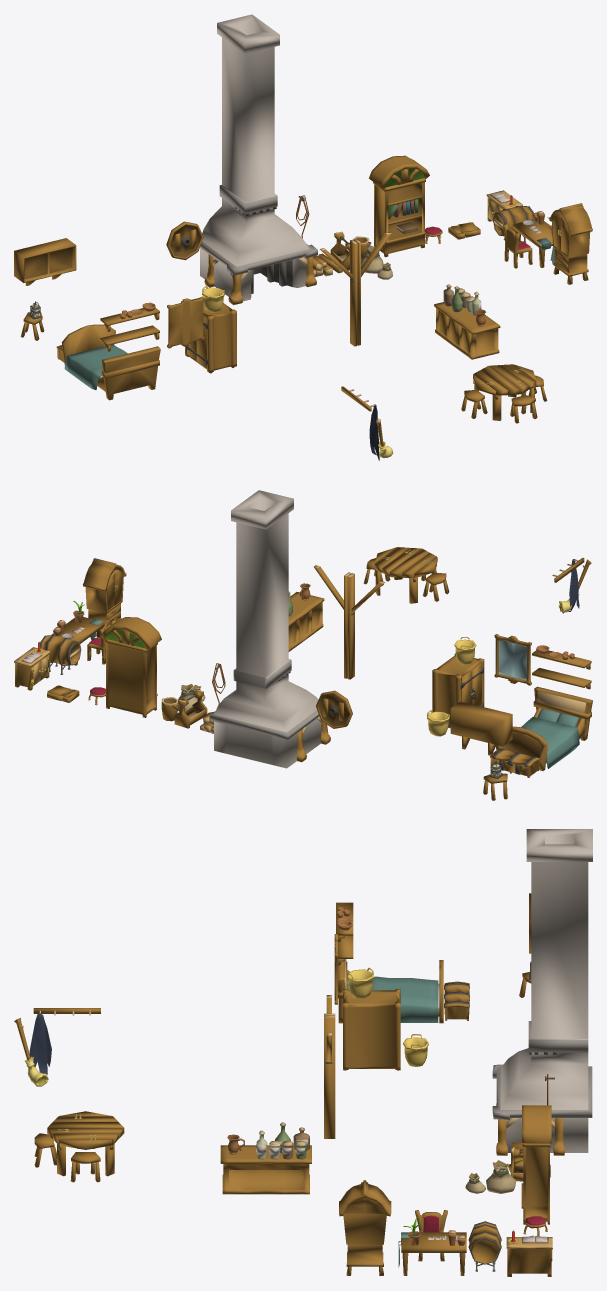
File: house2_interior1.fbx
3 renders of one model, top to bottom at view 1: azimuth 30°, elevation 25°; view 2: azimuth 150°, elevation 25°; view 3: azimuth 270°, elevation 25°, orthographic. The views are drawn at different scales.
Parts seen in each view (by area): view 1: Empty_Mesh; view 2: Empty_Mesh; view 3: Empty_Mesh.
Part boxes in pixels (left/top/right/bottom): Empty_Mesh: left=14, top=14, right=592, bottom=460; Empty_Mesh: left=14, top=490, right=592, bottom=800; Empty_Mesh: left=14, top=829, right=592, bottom=1276.
Size of the model in its own units: 72.8 by 35.4 by 62.88.
